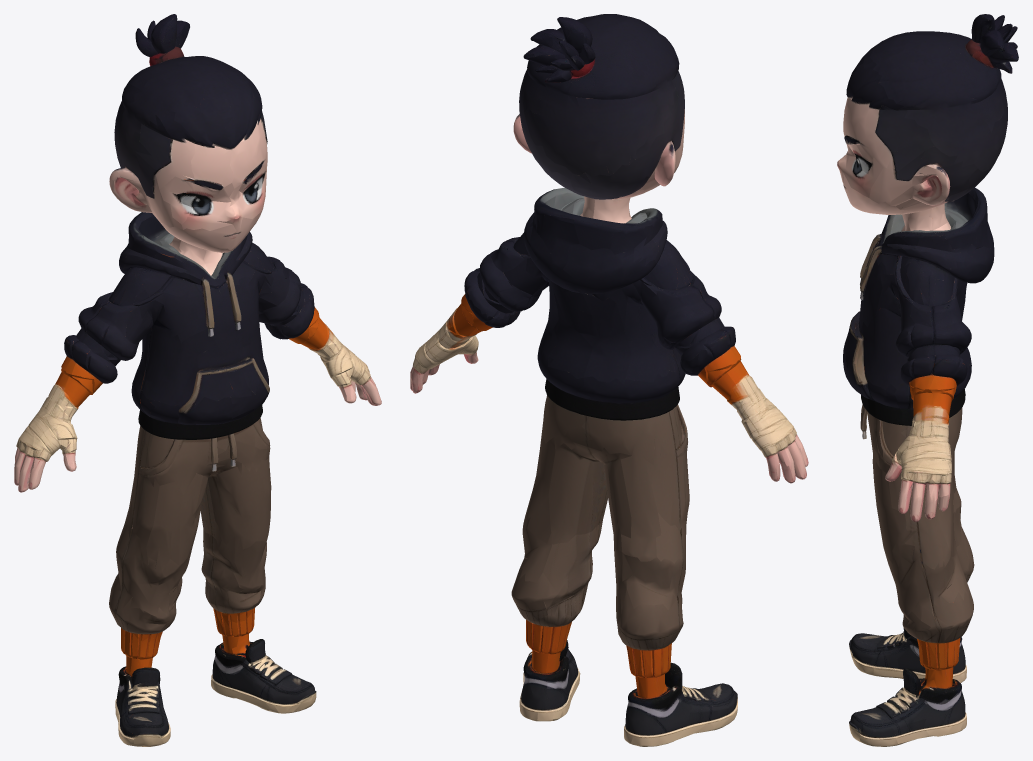
Rendered from hero_meshy_hooddown_v1_textured.glb.
3 renders of one model, left to right at view 1: azimuth 30°, elevation 25°; view 2: azimuth 150°, elevation 25°; view 3: azimuth 270°, elevation 25°, orthographic. The views are drawn at different scales.
Bounding box in the file's own units: 1.08 × 1.9 × 0.4545.
Materials: 1 (1 with a texture image).
